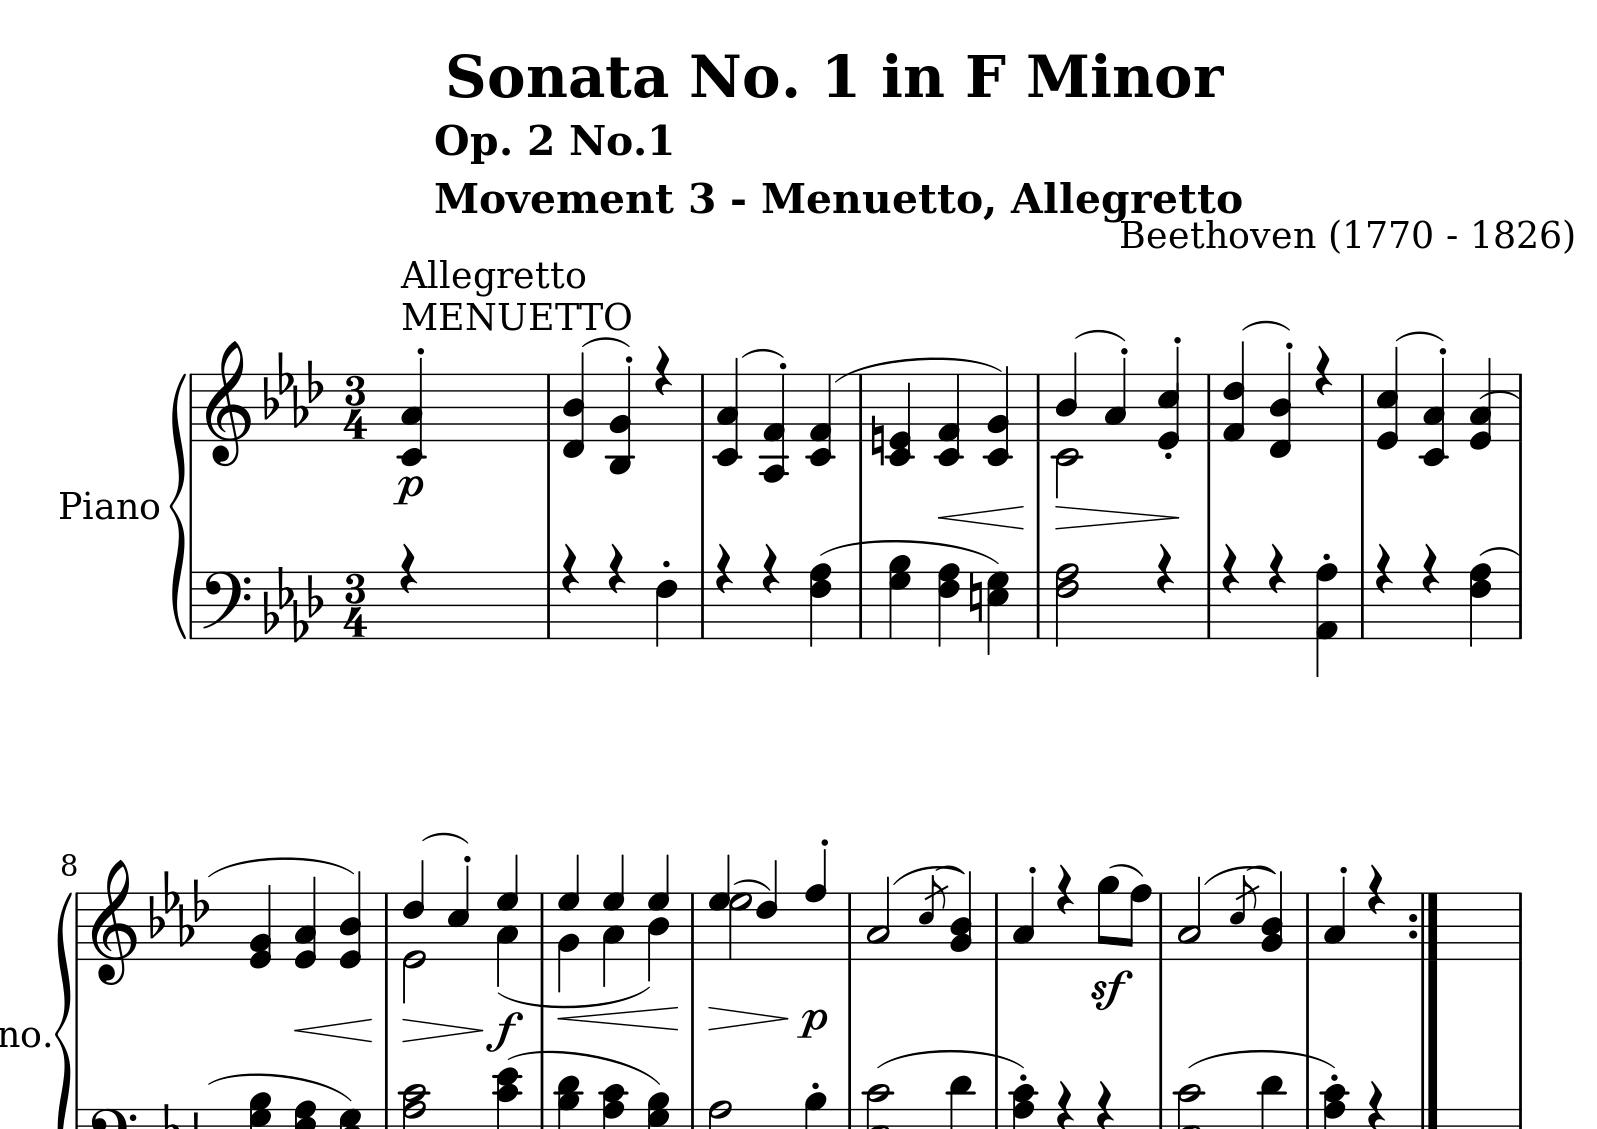2_3: (1175, 876, 1204, 964), (865, 875, 893, 962)
2_6_8: (1054, 561, 1080, 648)
2_7: (728, 890, 753, 963)
3: (343, 371, 368, 406), (343, 571, 368, 604)
4: (341, 404, 371, 440), (342, 604, 371, 637)
4_-1_4: (1266, 352, 1296, 459), (561, 352, 587, 459)
4_-2_0: (883, 373, 918, 467)
4_-2_1: (804, 373, 838, 466), (935, 371, 965, 467)
4_-2_2: (981, 365, 1015, 467)
4_-2_3: (395, 358, 430, 467), (710, 357, 745, 466), (1417, 358, 1452, 467)
4_-3_2: (606, 367, 635, 477)
4_-4_1: (759, 373, 792, 485)
4_0_2: (247, 883, 272, 968)
4_0_3: (1467, 357, 1492, 451), (294, 876, 318, 970)
4_0_4: (338, 870, 364, 970)
4_0_5: (1153, 347, 1183, 451), (1376, 346, 1400, 452)
4_1_6: (1219, 341, 1248, 444)
4_1_8: (1314, 562, 1339, 679)
4_2_4: (949, 870, 974, 962), (1261, 869, 1283, 962)
4_2_7: (556, 855, 580, 993)
4_3: (1012, 875, 1036, 962), (1103, 357, 1128, 441), (1323, 876, 1347, 962)
4_3_7: (495, 854, 521, 987), (602, 855, 627, 988)
4_4_7: (648, 855, 671, 984)
4_5: (446, 863, 472, 962)
4_5_7: (985, 571, 1010, 655)
4_6: (755, 858, 780, 962), (652, 569, 679, 648)
4_6_8: (808, 561, 835, 648), (1469, 561, 1493, 649), (937, 561, 960, 648)
4_7_9: (887, 554, 912, 639)
4_8: (804, 847, 828, 962)
8: (60, 849, 78, 877)
8_8: (1122, 883, 1153, 962)
8_9: (1095, 875, 1120, 962)
A_F: (261, 349, 325, 428), (147, 869, 210, 947), (261, 563, 324, 640)
Acciaccature: (1230, 871, 1259, 962), (919, 872, 947, 962)
Brace: (167, 367, 189, 641)
Crescendo_hairpin: (561, 1007, 681, 1031), (940, 505, 1026, 532), (292, 1018, 376, 1043), (705, 1006, 788, 1031), (400, 1018, 483, 1042)
Diminuendo_hairpin: (1054, 503, 1179, 533)
Fclef: (202, 569, 250, 640)
Gclef: (204, 338, 253, 467), (90, 857, 137, 986)
Natural: (869, 412, 886, 467), (967, 571, 984, 626)
Pno: (56, 488, 156, 524)
Rests4: (1419, 541, 1441, 595), (652, 345, 674, 397), (1219, 543, 1241, 595), (1365, 864, 1387, 916), (1094, 1078, 1116, 1129), (1314, 345, 1334, 398), (606, 541, 627, 595), (1266, 541, 1287, 595), (1054, 863, 1075, 916), (714, 543, 734, 595), (1155, 543, 1175, 595), (1373, 543, 1394, 595), (561, 543, 580, 595), (760, 543, 780, 595), (398, 543, 417, 594)
RightRepeatSign: (1408, 891, 1441, 958)
Single_barline: (540, 571, 558, 638), (1510, 892, 1529, 959), (1511, 569, 1529, 638), (1200, 373, 1217, 440), (1353, 373, 1370, 440), (540, 374, 557, 441), (1030, 571, 1047, 638), (989, 892, 1006, 959), (1299, 892, 1316, 959), (694, 374, 711, 440), (1201, 571, 1218, 637), (1354, 571, 1371, 637), (842, 893, 859, 959), (185, 371, 200, 441), (1513, 374, 1529, 442), (1030, 373, 1046, 440), (695, 571, 711, 638), (379, 892, 395, 959), (853, 571, 869, 637), (1153, 893, 1169, 959), (685, 894, 701, 959), (853, 378, 869, 440), (72, 892, 86, 960), (186, 571, 198, 638), (72, 1109, 84, 1128)
Slur: (507, 1050, 657, 1084), (836, 356, 999, 385), (820, 538, 991, 564), (206, 1072, 349, 1098), (1188, 1050, 1336, 1069), (492, 987, 648, 1006), (877, 1050, 1019, 1068), (205, 857, 353, 874), (1204, 864, 1281, 883), (893, 865, 967, 885), (1075, 326, 1125, 342), (1395, 329, 1445, 345), (1243, 318, 1290, 334), (423, 830, 469, 846), (580, 335, 630, 349), (742, 347, 783, 360), (1109, 861, 1144, 877), (1480, 546, 1522, 558), (1480, 389, 1519, 401), (734, 877, 769, 891)
TimeSig: (341, 571, 367, 638), (343, 374, 369, 440)
f: (485, 1010, 524, 1053)
p: (795, 1007, 830, 1043), (393, 472, 426, 508)
sf: (1087, 969, 1130, 1012)
